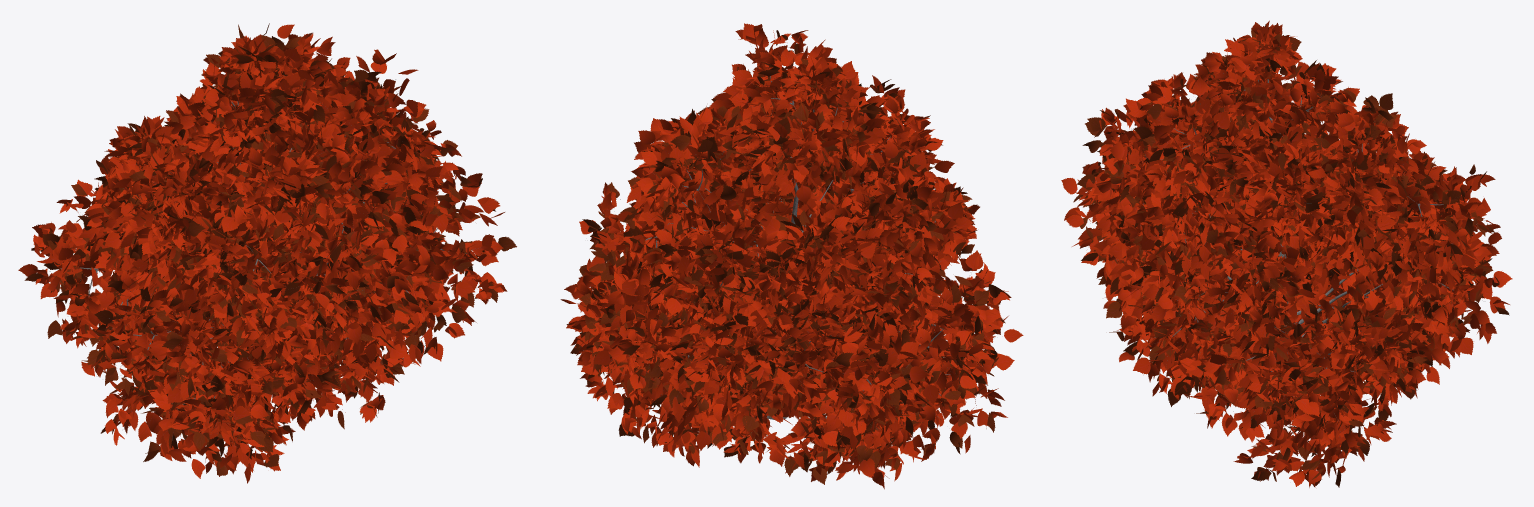
Rendered from agracejo.glb.
The picture shows the model from 3 angles, left to right: view 1: azimuth 30°, elevation 25°; view 2: azimuth 150°, elevation 25°; view 3: azimuth 270°, elevation 25°; orthographic projection.
Visible parts, largest first — view 1: AgracejoRojo; view 2: AgracejoRojo; view 3: AgracejoRojo.
Part boxes in pixels (box(x1,y1,x2,y2)): AgracejoRojo: box(18, 23, 516, 483); AgracejoRojo: box(560, 23, 1023, 489); AgracejoRojo: box(1061, 20, 1512, 487).
Bounding box in the file's own units: 0.2022 × 0.1974 × 0.194.
5 materials, 5 textured.
